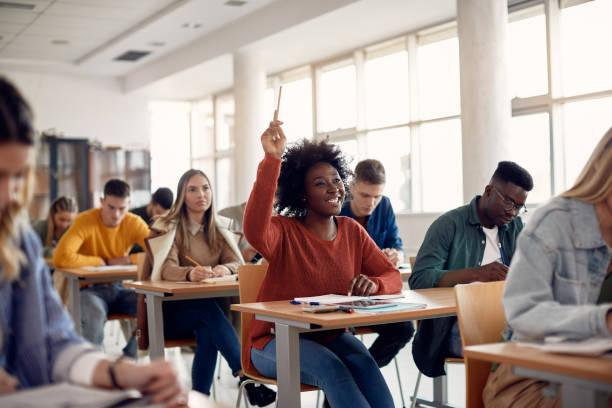study: (243, 85, 403, 304)
